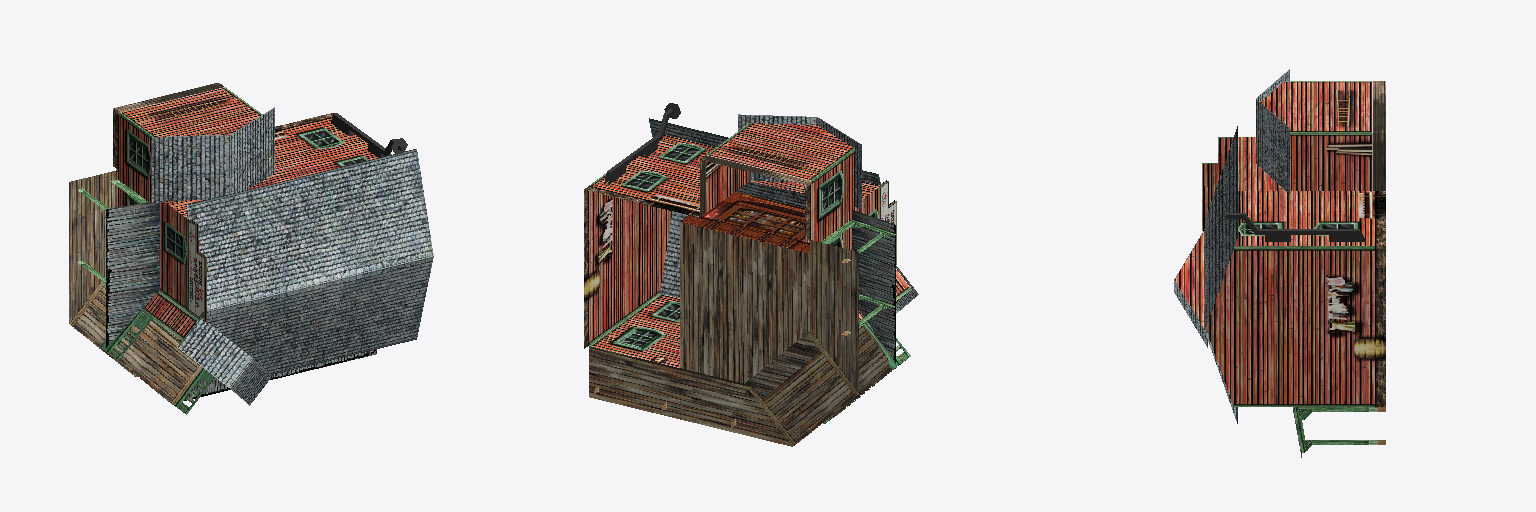
3 renders of one model, left to right at view 1: azimuth 30°, elevation 25°; view 2: azimuth 150°, elevation 25°; view 3: azimuth 270°, elevation 25°, orthographic.
Bounding box in the file's own units: 212 × 202 × 138.
Materials: 25 (21 with a texture image).